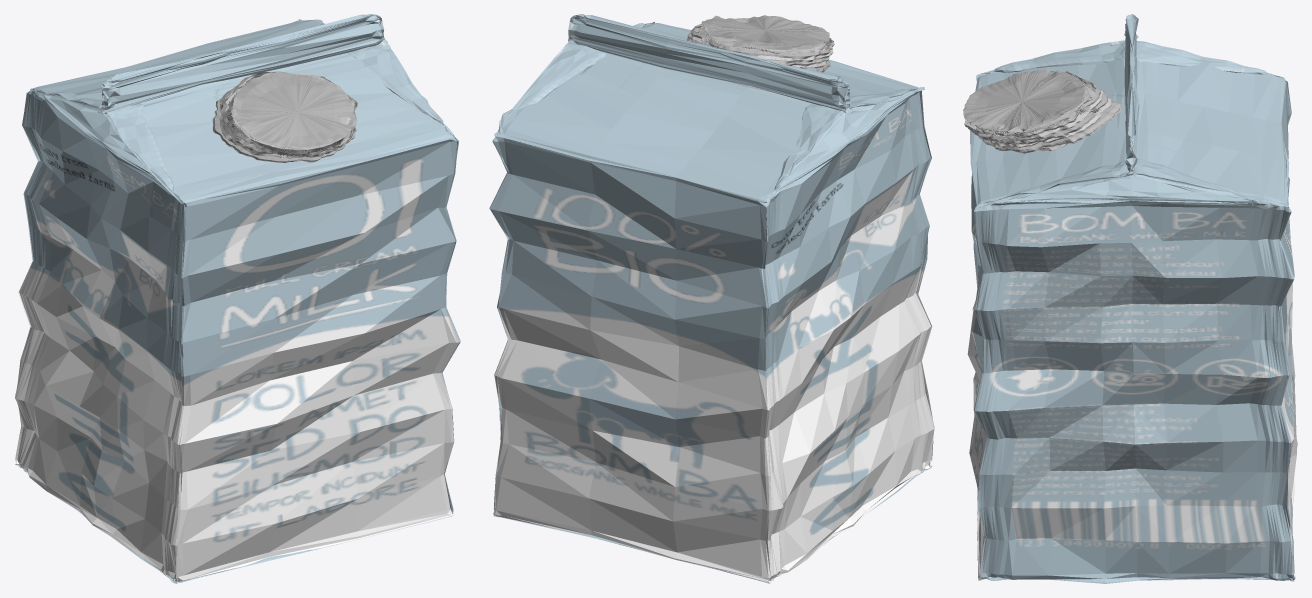
Rendered from crush_high_0.obj.
3 renders of one model, left to right at view 1: azimuth 30°, elevation 25°; view 2: azimuth 150°, elevation 25°; view 3: azimuth 270°, elevation 25°, orthographic.
Visible parts, largest first — view 1: model; view 2: model; view 3: model.
Part boxes in pixels (<box>): model: <box>15,14,460,583</box>; model: <box>489,14,934,583</box>; model: <box>963,14,1297,583</box>.
Size of the model in its own units: 0.0619 by 0.0903 by 0.062.
1 material, 1 textured.
